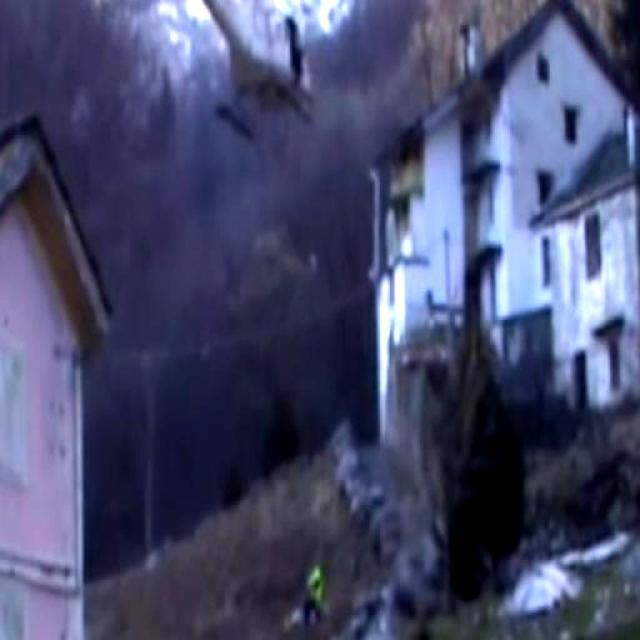drone: (158, 0, 316, 141)
